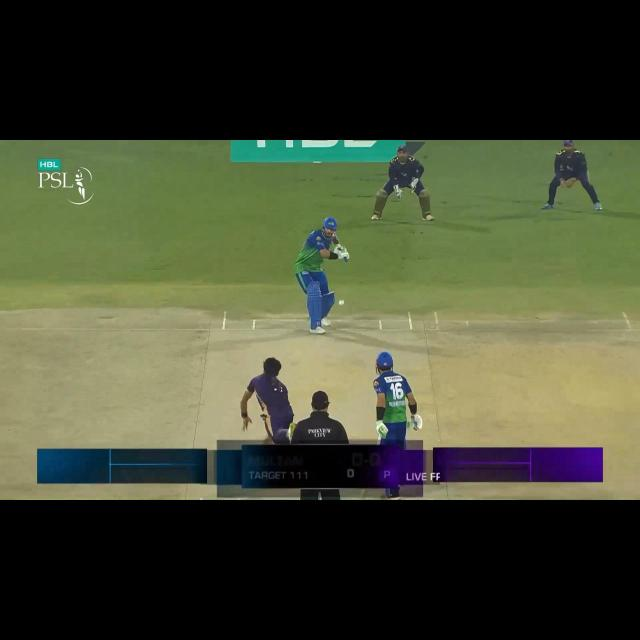bat: (332, 235, 340, 246)
